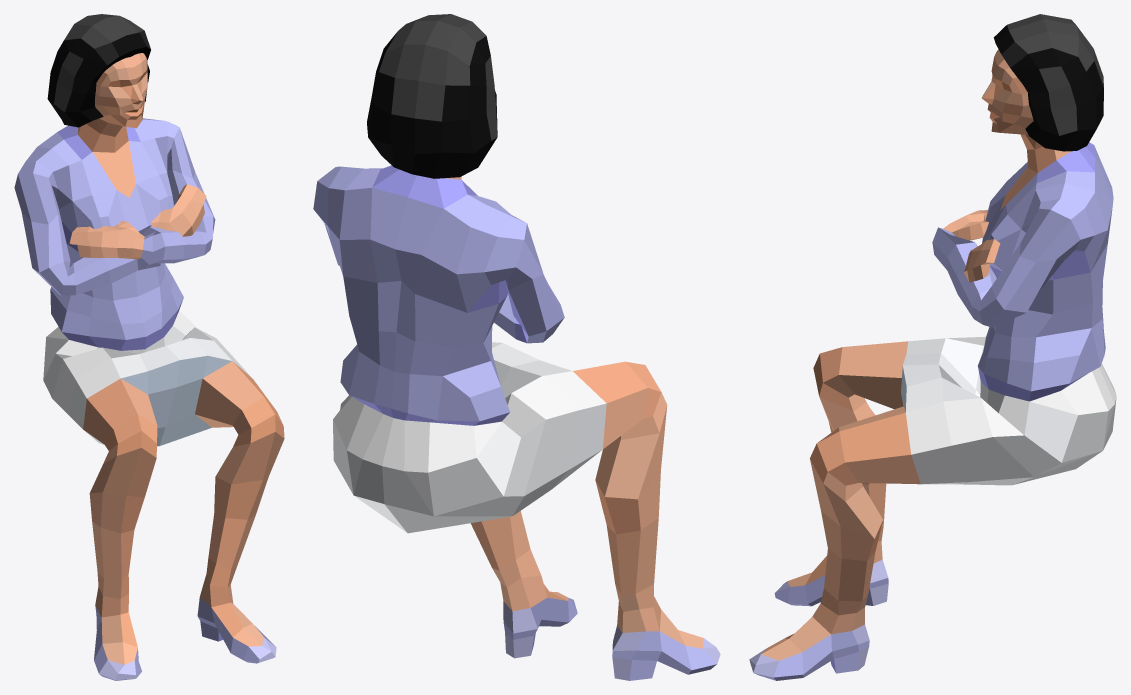
The picture shows the model from 3 angles, left to right: view 1: azimuth 30°, elevation 25°; view 2: azimuth 150°, elevation 25°; view 3: azimuth 270°, elevation 25°; orthographic projection. The views are drawn at different scales.
Parts seen in each view (by area): view 1: lpFemale_casual_A_sitting_handscrossed_peopleColors_0; view 2: lpFemale_casual_A_sitting_handscrossed_peopleColors_0; view 3: lpFemale_casual_A_sitting_handscrossed_peopleColors_0.
Boxes of the visible parts, bbox=[...] form: lpFemale_casual_A_sitting_handscrossed_peopleColors_0: bbox=[14, 14, 284, 680]; lpFemale_casual_A_sitting_handscrossed_peopleColors_0: bbox=[313, 14, 720, 680]; lpFemale_casual_A_sitting_handscrossed_peopleColors_0: bbox=[749, 14, 1116, 680].
Bounding box in the file's own units: 50.6 × 133 × 69.39.
